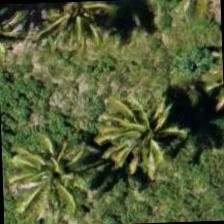Kelapa_Sawit: (21, 122, 114, 215), (104, 92, 196, 185), (35, 0, 128, 71)
